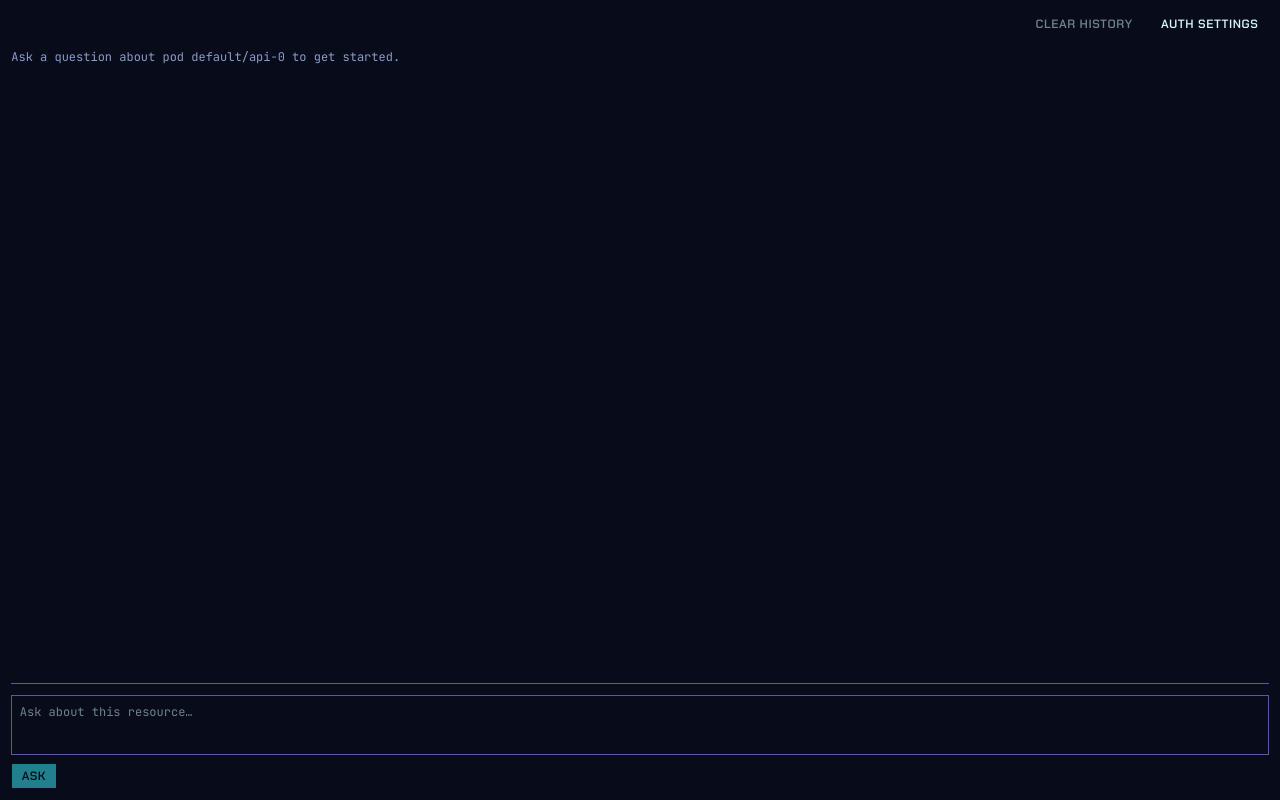
Scenario: AgentPanel › shows an error state when request() itself rejects
The image size is (1280, 800).
Type "Why is this pod crashing?" into the text box with test id "agent-ops-question-input" at (640, 725), box [11,695,1269,755]
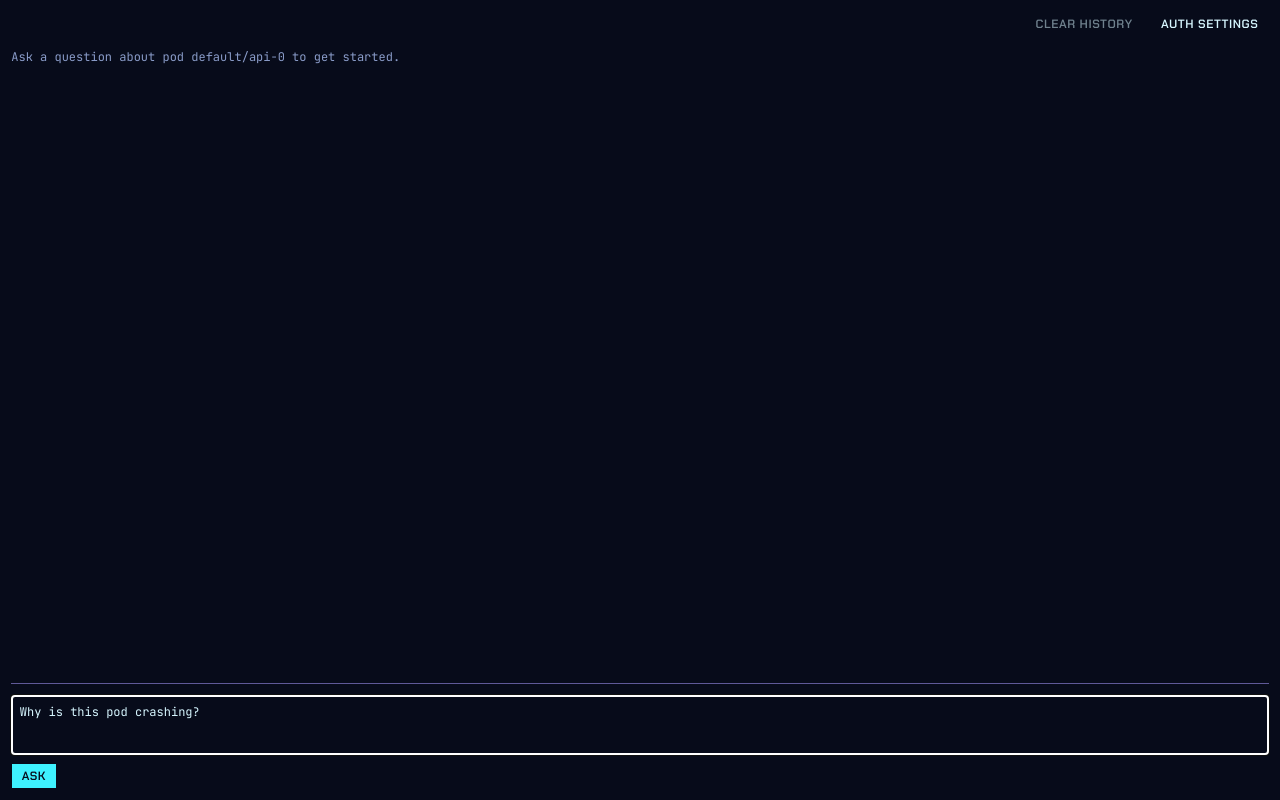
Click the button with test id "agent-ops-submit" at (34, 776), box [11,762,57,789]
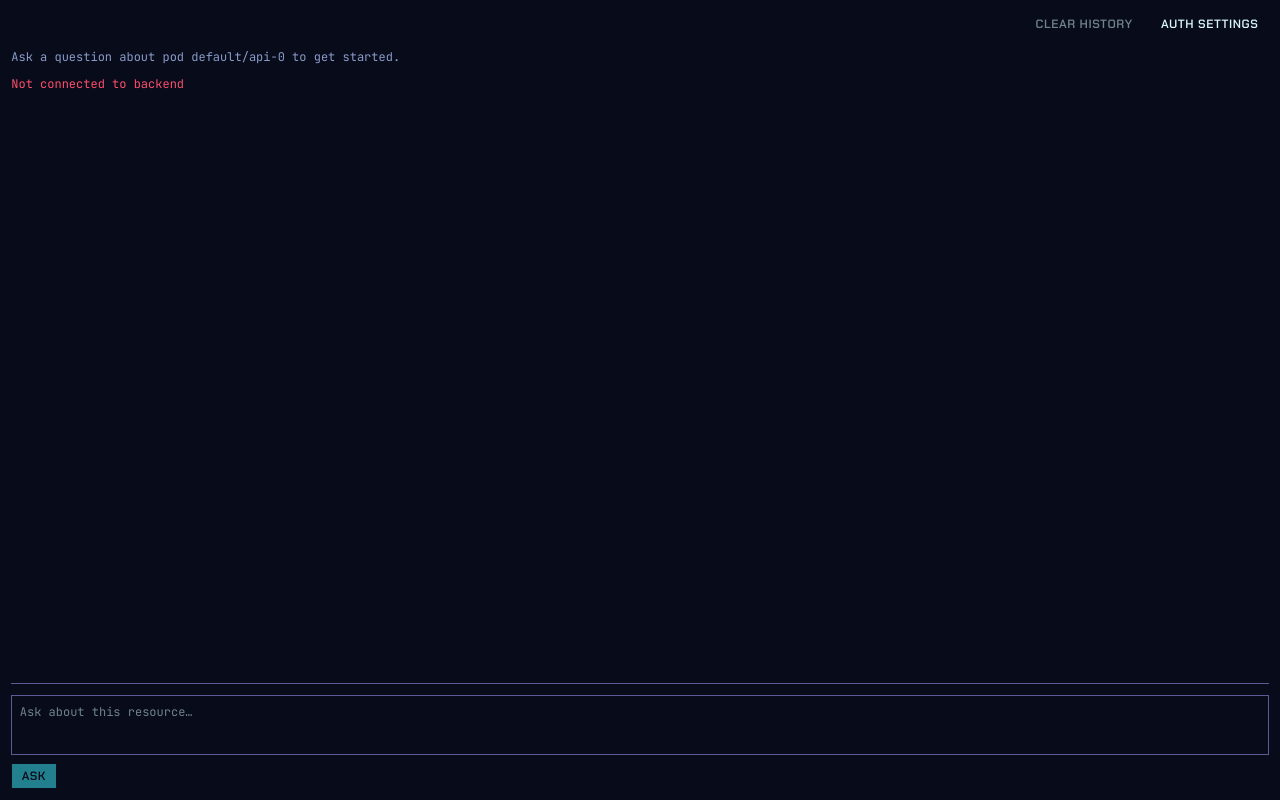
Expected: the text with test id "agent-ops-error" reads "Not connected to backend", [11,76,184,92]
